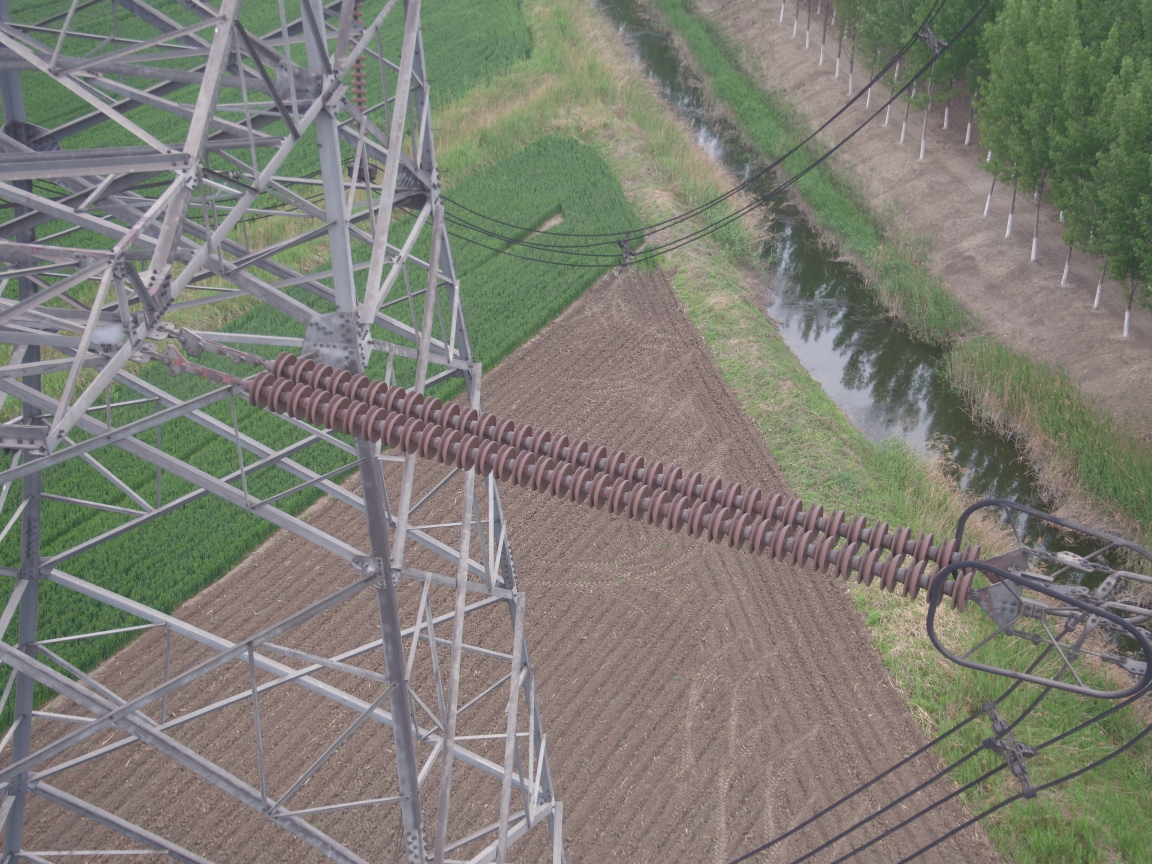insulator: (219, 345, 1002, 617)
